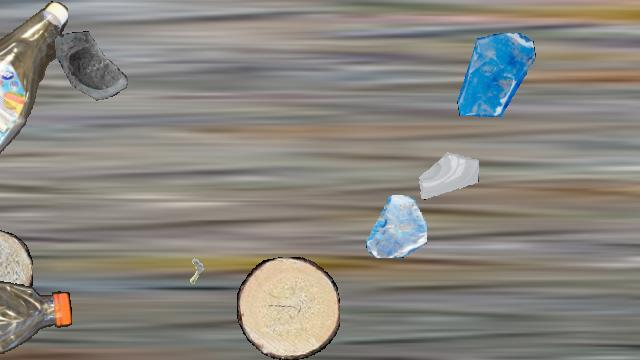glass: (454, 33, 538, 117), (55, 31, 137, 113), (364, 195, 426, 257), (418, 140, 478, 200)
metal: (174, 255, 214, 295)
plastic: (0, 1, 68, 177), (0, 279, 72, 359)
wood: (237, 257, 339, 359), (0, 229, 33, 313)
